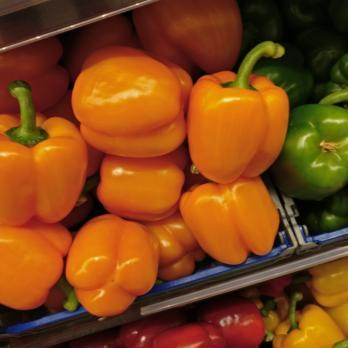Capsicum: (0, 54, 348, 226), (1, 230, 162, 320), (147, 3, 348, 65), (284, 264, 348, 346), (168, 306, 276, 348)
